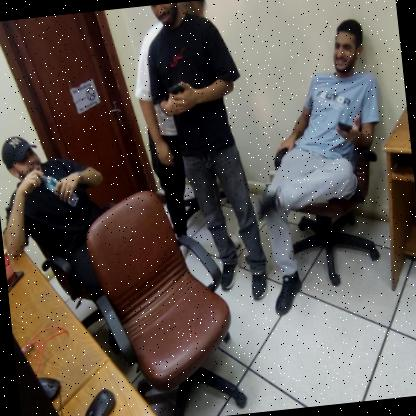chair: (72, 178, 249, 404)
person: (137, 0, 277, 299), (252, 13, 401, 291), (0, 119, 122, 292)
